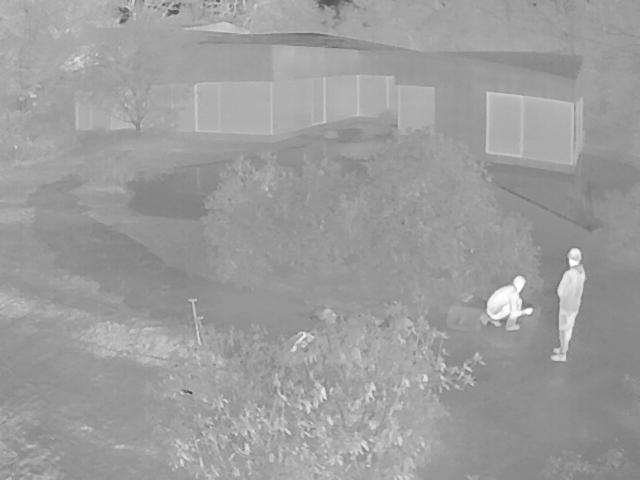person: (553, 245, 589, 360), (488, 274, 535, 330)
